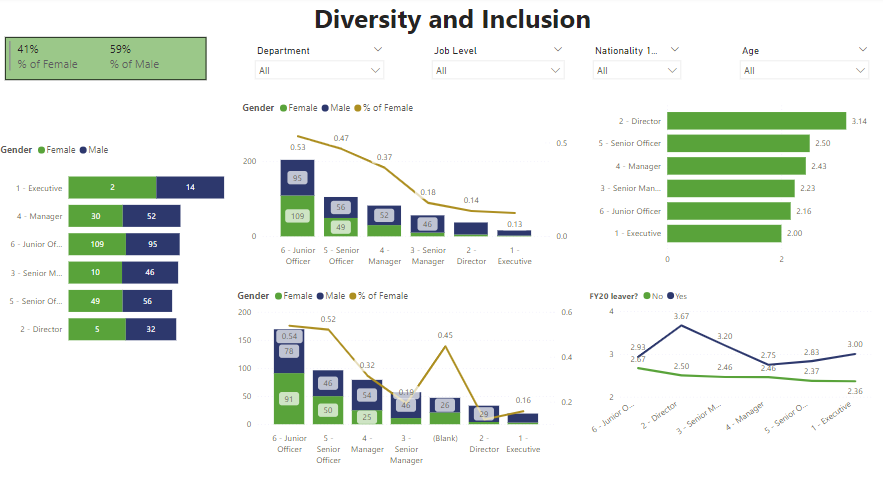

This screenshot's page, from the dashboard's own definition file:
{"tool":"powerbi","page":{"name":"diversity and inclusion","canvas":[1280,720],"ordinal":3},"visuals":[{"type":"textbox","box":[426.2,0,458.8,63.9],"z":0},{"type":"slicer","fields":{"Values":["Pharma Group AG.Job Level after FY20 promotions"]},"box":[616.2,63.9,210.9,56.4],"z":2},{"type":"slicer","fields":{"Values":["Pharma Group AG.Age @01.07.2020"]},"box":[1060.2,63.9,206.4,56.4],"z":3},{"type":"slicer","fields":{"Values":["Pharma Group AG.Broad region group: nationality 1"]},"box":[847.9,63.9,147,56.4],"z":4},{"type":"slicer","fields":{"Values":["Pharma Group AG.Last Department in FY20"]},"box":[360.8,63.9,206.4,56.4],"z":5},{"type":"barChart","fields":{"Y":["Pharma Group AG.Employee ID"],"Category":["Pharma Group AG.Job Level after FY20 promotions"],"Series":["Pharma Group AG.Gender"]},"box":[0,200.2,361.4,316.8],"z":6},{"type":"multiRowCard","fields":{"Values":["Pharma Group AG.% of Female","Pharma Group AG.% of Male"]},"box":[11.9,57.9,289.6,62.4],"z":7},{"type":"lineStackedColumnComboChart","fields":{"Category":["Pharma Group AG.Job Level after FY20 promotions"],"Y":["Pharma Group AG.Employee ID"],"Series":["Pharma Group AG.Gender"],"Y2":["Pharma Group AG.% of Female"]},"box":[348.5,139.7,478.1,256.3],"z":8},{"type":"lineStackedColumnComboChart","fields":{"Category":["Pharma Group AG.Job Level after FY21 promotions"],"Y":["Pharma Group AG.Employee ID"],"Series":["Pharma Group AG.Gender"],"Y2":["Pharma Group AG.% of Female"]},"box":[341.3,410.4,492.5,272.2],"z":9},{"type":"barChart","fields":{"Category":["Pharma Group AG.Job Level after FY20 promotions"],"Y":["Pharma Group AG.Time in Job Level @01.07.2020"]},"box":[848.2,139.7,417.6,256.3],"z":10},{"type":"lineChart","fields":{"Category":["Pharma Group AG.Job Level after FY20 promotions"],"Y":["Pharma Group AG.FY19 Performance Rating"],"Series":["Pharma Group AG.FY20 leaver?"]},"box":[848.2,410.4,417.6,233.3],"z":11}]}

Visuals, with their boxes in screenshot pixels (x1, y1, x2, y2), scaled from the page's 1280x720 canvas onto the 883x493 screenshot:
textbox: 294, 0, 611, 44
slicer - Pharma Group AG.Job Level after FY20 promotions: 425, 44, 571, 82
slicer - Pharma Group AG.Age @01.07.2020: 731, 44, 874, 82
slicer - Pharma Group AG.Broad region group: nationality 1: 585, 44, 686, 82
slicer - Pharma Group AG.Last Department in FY20: 249, 44, 391, 82
barChart - Pharma Group AG.Employee ID x Pharma Group AG.Job Level after FY20 promotions: 0, 137, 249, 354
multiRowCard - Pharma Group AG.% of Female x Pharma Group AG.% of Male: 8, 40, 208, 82
lineStackedColumnComboChart - Pharma Group AG.Job Level after FY20 promotions x Pharma Group AG.Employee ID: 240, 96, 570, 271
lineStackedColumnComboChart - Pharma Group AG.Job Level after FY21 promotions x Pharma Group AG.Employee ID: 235, 281, 575, 467
barChart - Pharma Group AG.Job Level after FY20 promotions x Pharma Group AG.Time in Job Level @01.07.2020: 585, 96, 873, 271
lineChart - Pharma Group AG.Job Level after FY20 promotions x Pharma Group AG.FY19 Performance Rating: 585, 281, 873, 441
